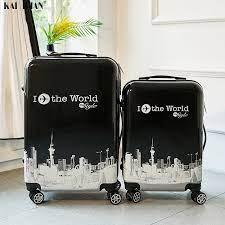suitcase: (21, 51, 121, 192), (118, 74, 206, 192)
